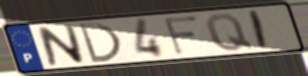4: (132, 17, 165, 61)
D: (76, 21, 125, 64)
F: (162, 14, 201, 57)
I: (248, 9, 270, 51)
N: (35, 23, 87, 67)
Q: (203, 12, 257, 53)
